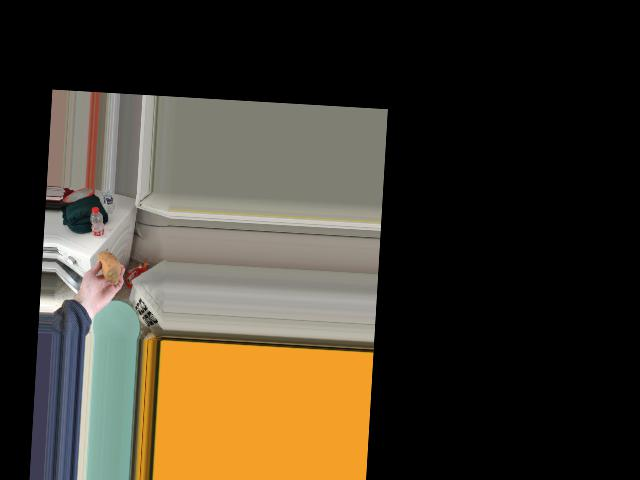sweet_potato: (97, 250, 121, 280)
